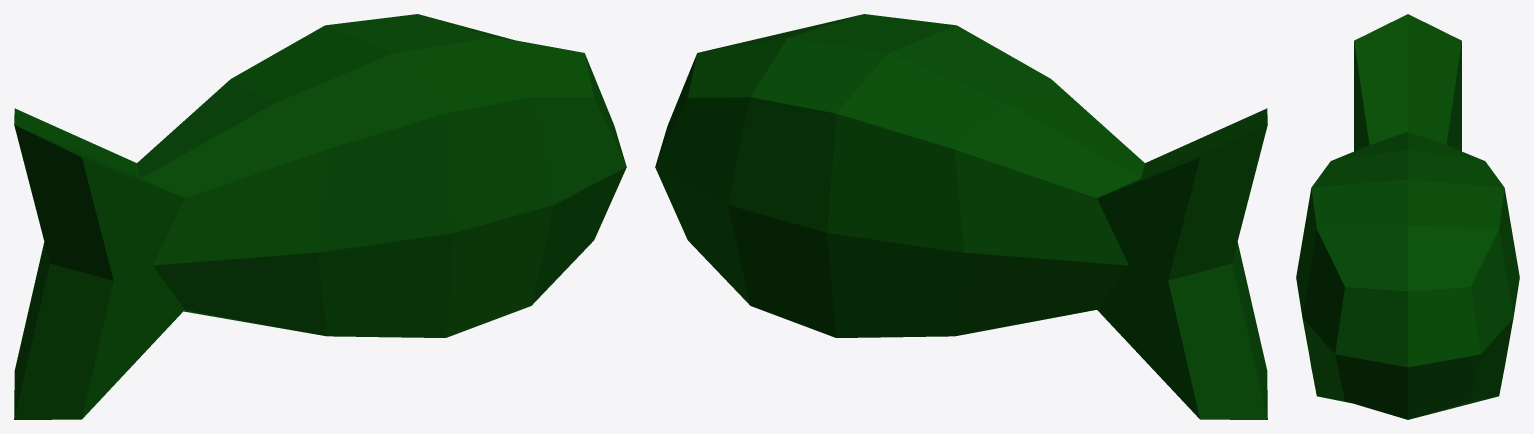
Rendered from asset.glb.
3 views of the same model, side by side, from view 1: azimuth 30°, elevation 25°; view 2: azimuth 150°, elevation 25°; view 3: azimuth 270°, elevation 25° (orthographic). The views are drawn at different scales.
Parts seen in each view (by area): view 1: Cube; view 2: Cube; view 3: Cube.
Boxes of the visible parts, box(x1,y1,x2,y2) form: Cube: box(14, 14, 626, 419); Cube: box(655, 14, 1267, 419); Cube: box(1296, 14, 1519, 419).
Bounding box in the file's own units: 4.79 × 2.25 × 1.93.
